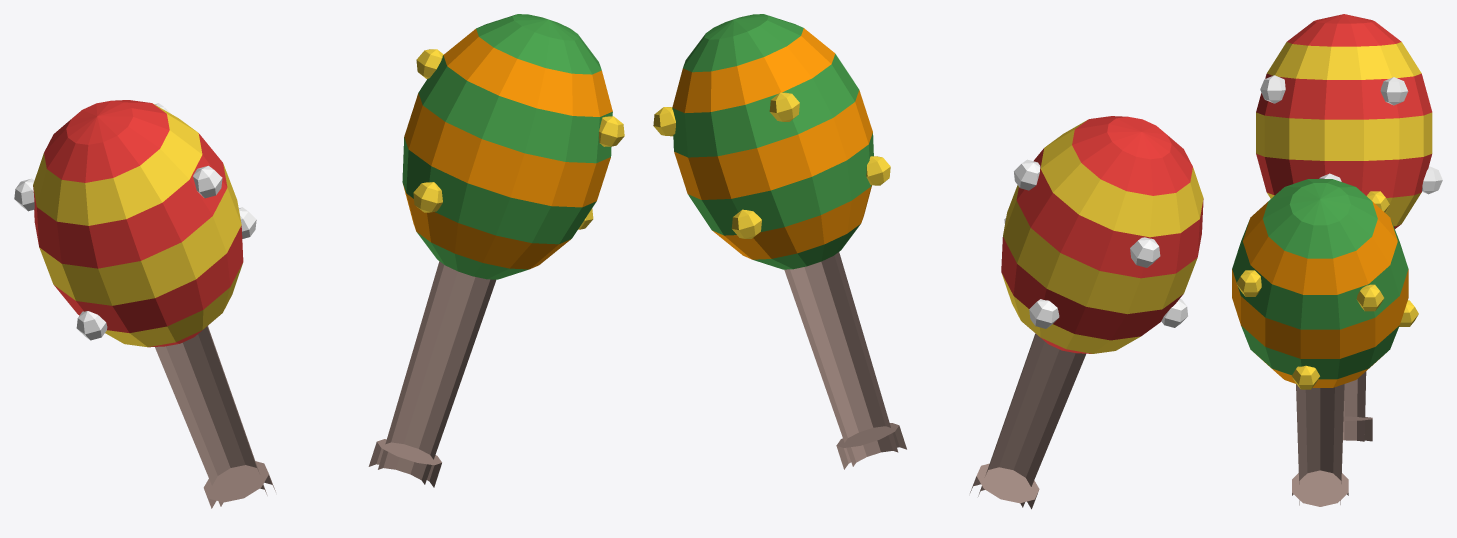
Rendered from maracas.glb.
3 renders of one model, left to right at view 1: azimuth 30°, elevation 25°; view 2: azimuth 150°, elevation 25°; view 3: azimuth 270°, elevation 25°, orthographic. The views are drawn at different scales.
Visible parts, largest first — view 1: maracas; view 2: maracas; view 3: maracas.
Boxes of the visible parts, box(x1,y1,x2,y2) form: maracas: box(14, 14, 624, 508); maracas: box(653, 14, 1203, 509); maracas: box(1232, 14, 1442, 506).
Bounding box in the file's own units: 0.4522 × 0.3497 × 0.1765.
